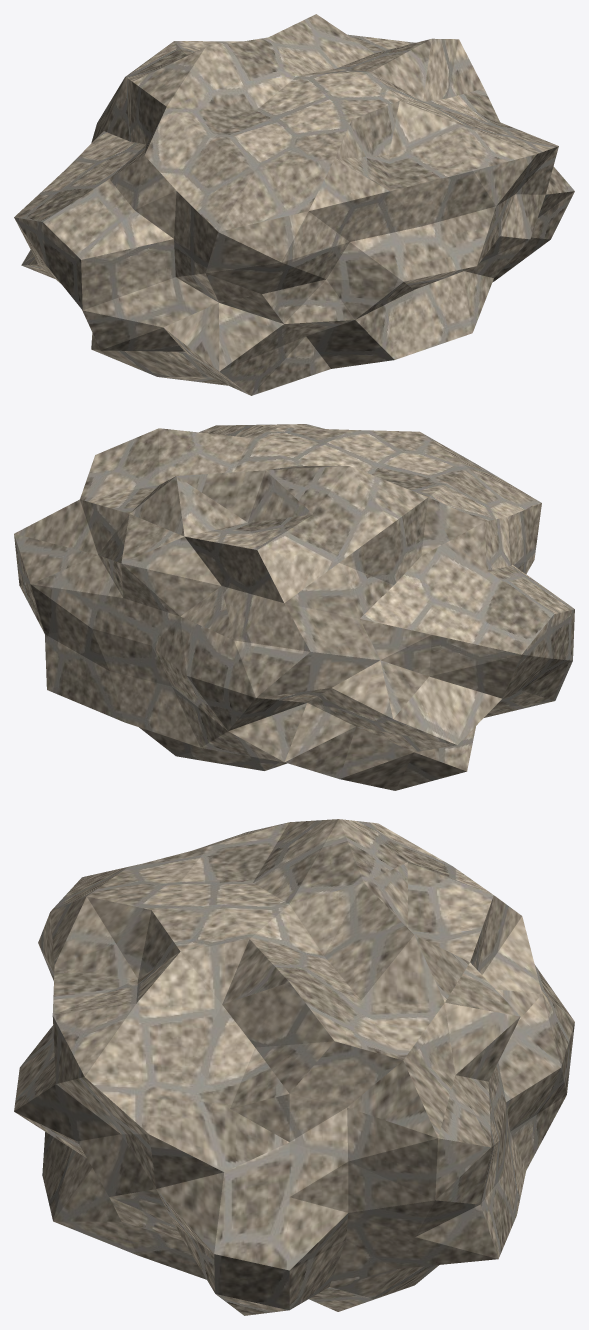
The picture shows the model from 3 angles, top to bottom: view 1: azimuth 30°, elevation 25°; view 2: azimuth 150°, elevation 25°; view 3: azimuth 270°, elevation 25°; orthographic projection. The views are drawn at different scales.
Visible parts, largest first — view 1: embedment=0.15;height=0.7;length=1.2;material=stone_wall;wid; view 2: embedment=0.15;height=0.7;length=1.2;material=stone_wall;wid; view 3: embedment=0.15;height=0.7;length=1.2;material=stone_wall;wid.
Part boxes in pixels (left/top/right/bottom): embedment=0.15;height=0.7;length=1.2;material=stone_wall;wid: left=14, top=14, right=574, bottom=395; embedment=0.15;height=0.7;length=1.2;material=stone_wall;wid: left=14, top=424, right=574, bottom=790; embedment=0.15;height=0.7;length=1.2;material=stone_wall;wid: left=14, top=819, right=574, bottom=1315.
Bounding box in the file's own units: 1.29 × 0.9798 × 0.7783.
Materials: 1 (1 with a texture image).
